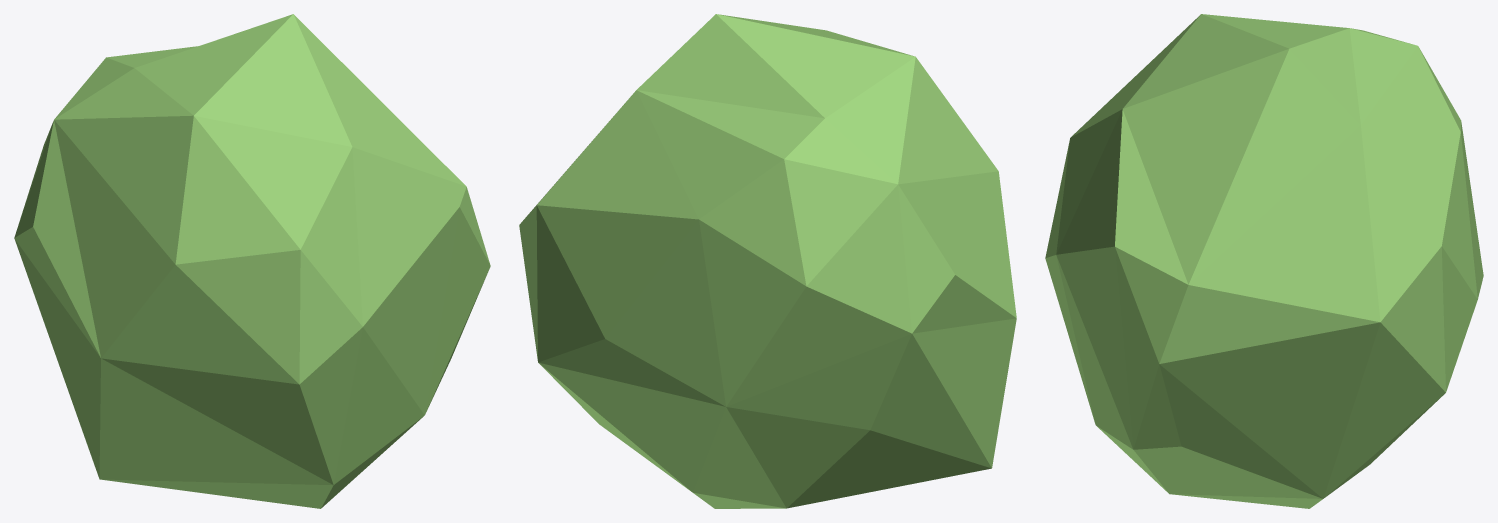
File: Bush_3.fbx
3 renders of one model, left to right at view 1: azimuth 30°, elevation 25°; view 2: azimuth 150°, elevation 25°; view 3: azimuth 270°, elevation 25°, orthographic. The views are drawn at different scales.
Parts seen in each view (by area): view 1: Bush_3; view 2: Bush_3; view 3: Bush_3.
Boxes of the visible parts, bbox=[...] form: Bush_3: bbox=[14, 14, 490, 508]; Bush_3: bbox=[519, 14, 1016, 508]; Bush_3: bbox=[1045, 14, 1483, 508].
Bounding box in the file's own units: 30.62 × 34.64 × 29.61.
Materials: 1 (1 with a texture image).
